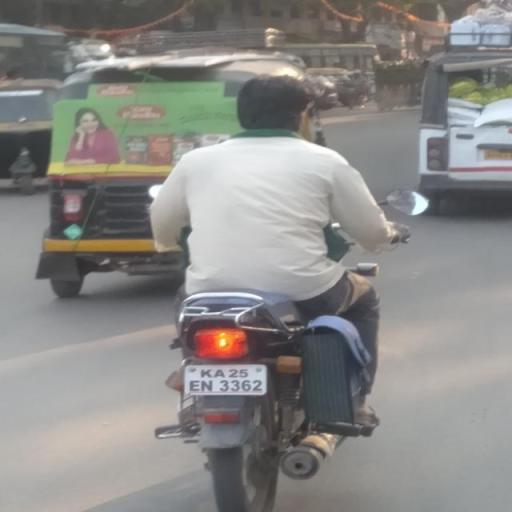bike: (143, 63, 430, 512)
numberplate: (186, 362, 267, 398)
withouthelmet: (239, 74, 308, 131)
